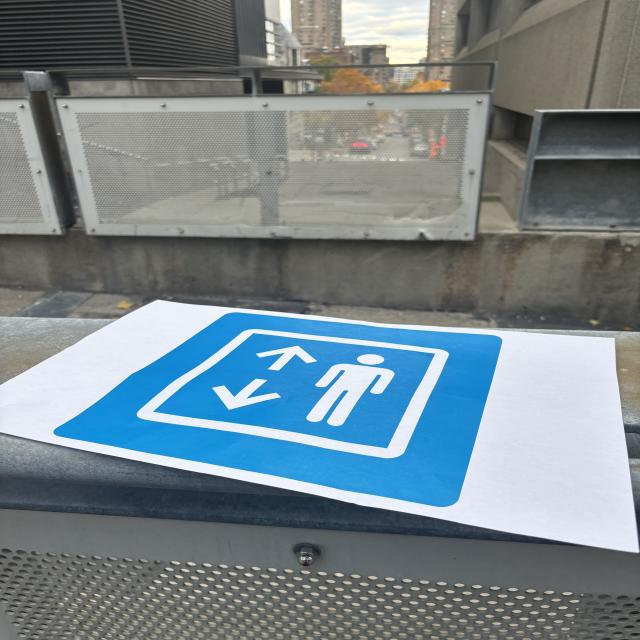elevator: (49, 314, 502, 511)
